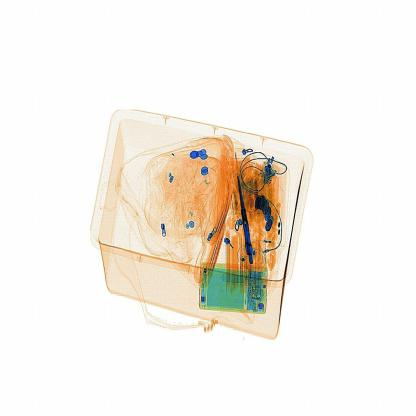gun: (225, 158, 265, 276)
